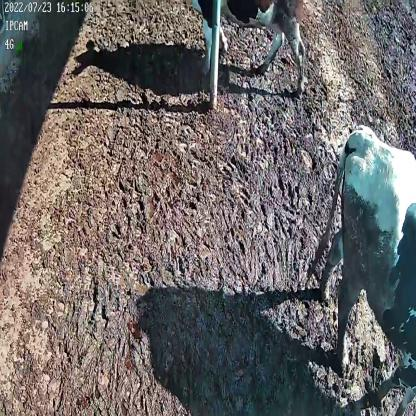cow: (193, 0, 306, 101)
